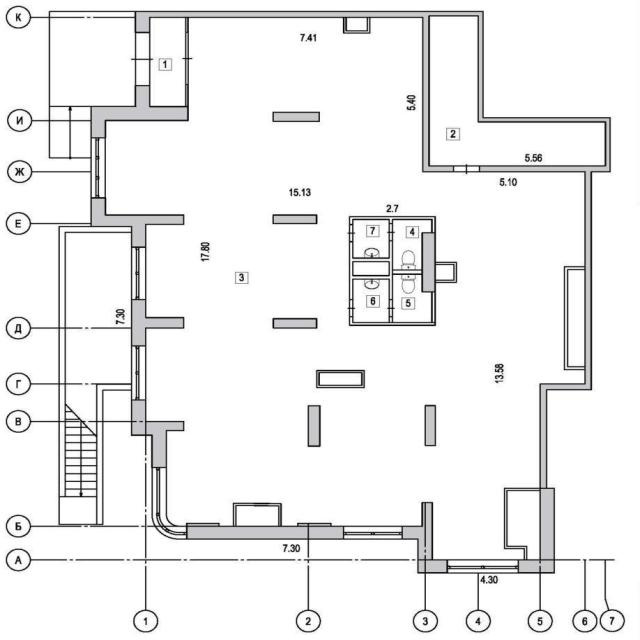Bathrooms: (394, 221, 431, 270), (393, 275, 431, 321), (354, 280, 387, 321), (355, 220, 388, 257)
Corridors: (430, 16, 605, 165), (66, 233, 130, 383), (52, 18, 135, 105), (151, 18, 184, 106), (508, 491, 540, 560), (59, 497, 97, 524)
Doors: (128, 33, 156, 86), (180, 32, 194, 84), (454, 163, 480, 177), (385, 299, 398, 317), (345, 224, 357, 242), (345, 300, 357, 317), (385, 223, 396, 241)
LBwalls: (90, 85, 189, 138), (91, 198, 185, 247), (131, 401, 185, 467), (402, 502, 448, 574), (519, 487, 556, 574), (131, 300, 185, 346), (186, 526, 343, 540), (421, 232, 436, 293), (307, 405, 321, 447), (424, 405, 437, 447), (272, 317, 317, 329), (273, 213, 318, 225), (273, 111, 320, 122), (135, 11, 151, 34), (297, 522, 332, 526), (186, 523, 219, 526)
Offices: (106, 18, 585, 560)
Stairs: (66, 384, 97, 498), (49, 107, 91, 160)
Walls: (150, 11, 611, 488), (59, 226, 131, 498), (96, 383, 131, 525), (349, 241, 422, 300), (349, 292, 436, 326), (503, 487, 541, 558), (348, 216, 436, 232), (232, 503, 282, 526), (316, 370, 364, 388), (49, 11, 135, 17), (435, 261, 457, 283), (185, 85, 189, 106)
Windows: (151, 467, 187, 541), (447, 559, 519, 574), (90, 137, 106, 199), (344, 525, 403, 540), (131, 345, 146, 400), (131, 246, 146, 300)
